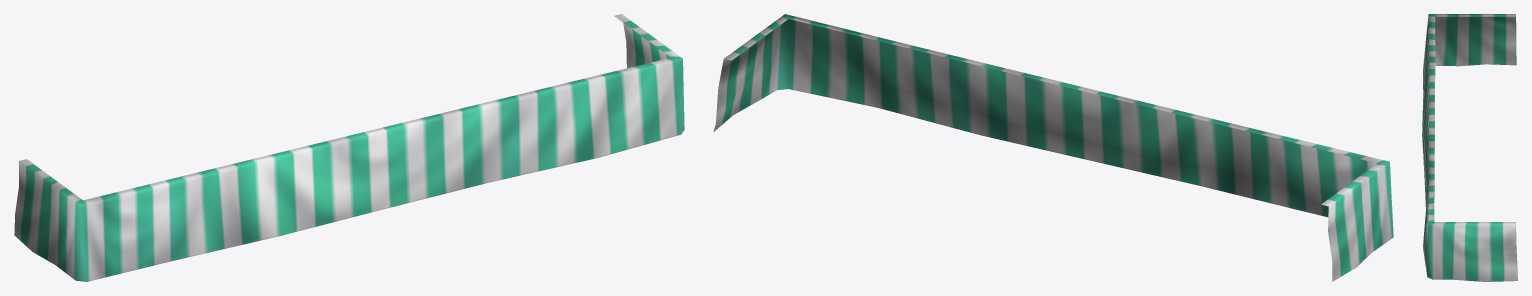
The model's file is jsf_BlindfoldCloth_2P_s03_01.fbx.
The picture shows the model from 3 angles, left to right: view 1: azimuth 30°, elevation 25°; view 2: azimuth 150°, elevation 25°; view 3: azimuth 270°, elevation 25°; orthographic projection. The views are drawn at different scales.
Parts seen in each view (by area): view 1: jsf_BlindfoldCloth_2P_s03_01; view 2: jsf_BlindfoldCloth_2P_s03_01; view 3: jsf_BlindfoldCloth_2P_s03_01.
Boxes of the visible parts, <box> form: jsf_BlindfoldCloth_2P_s03_01: <box>14,14,684,281</box>; jsf_BlindfoldCloth_2P_s03_01: <box>713,14,1393,281</box>; jsf_BlindfoldCloth_2P_s03_01: <box>1422,14,1517,281</box>.
Size of the model in its own units: 261 by 30.11 by 48.69.
